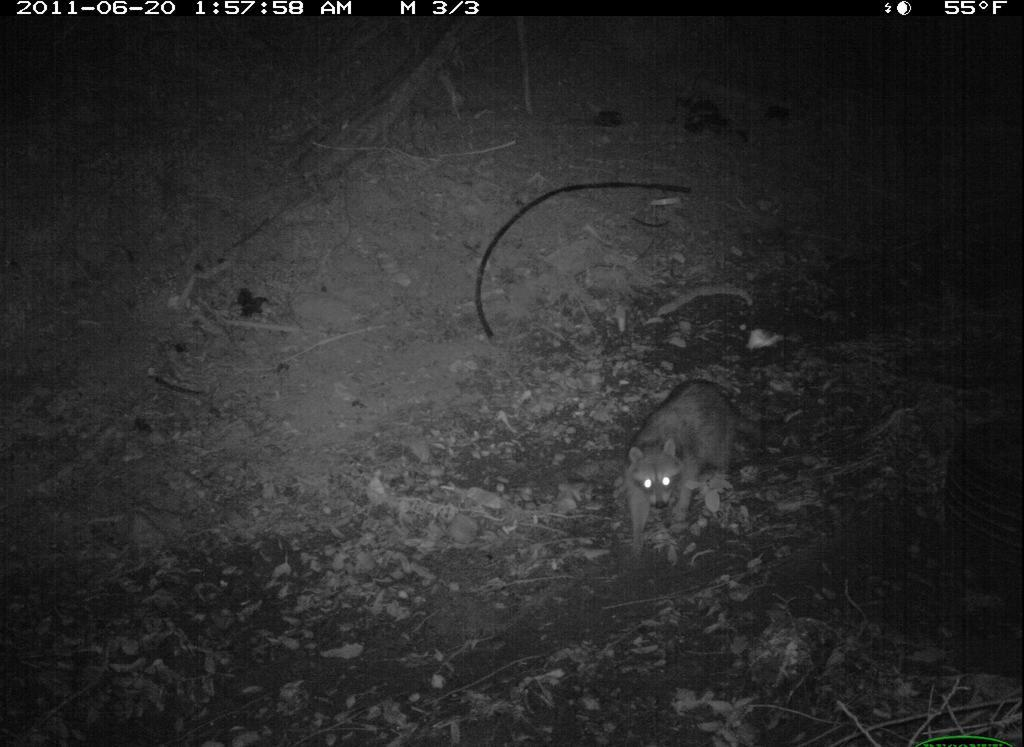raccoon: (616, 376, 753, 560)
